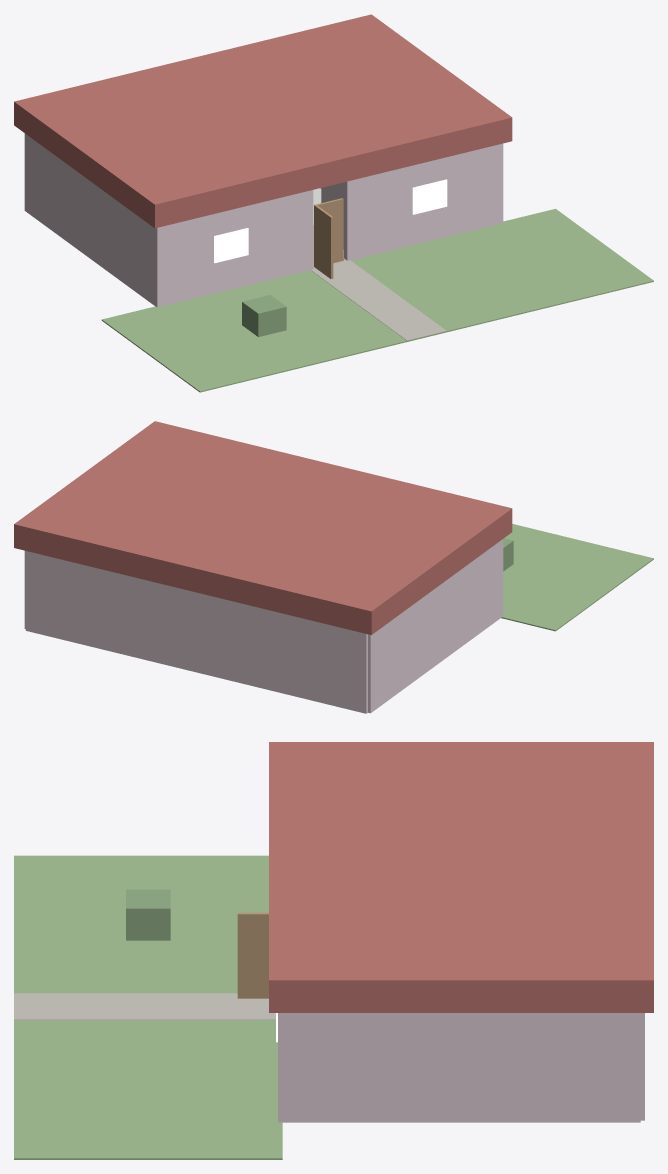
Rendered from mia.glb.
The picture shows the model from 3 angles, top to bottom: view 1: azimuth 30°, elevation 25°; view 2: azimuth 150°, elevation 25°; view 3: azimuth 270°, elevation 25°; orthographic projection. The views are drawn at different scales.
Visible parts, largest first — view 1: ext:roof, floor:garden, wall:living_room (×2), wall:kitchen, wall:bedroom, path, time:evening+night (×2), bush, when:open=true, when:open=false; view 2: ext:roof, wall:bedroom (×2), wall:kitchen, floor:garden, wall:living_room; view 3: ext:roof, floor:garden, wall:kitchen (×2), path, when:open=true, bush.
Part boxes in pixels (x1=…): ext:roof: x1=14, y1=14, x2=512, y2=228; floor:garden: x1=101, y1=208, x2=653, y2=392; wall:living_room (×2): x1=73, y1=169, x2=313, y2=307; wall:kitchen: x1=344, y1=143, x2=503, y2=260; wall:bedroom: x1=24, y1=133, x2=73, y2=246; path: x1=311, y1=259, x2=446, y2=340; time:evening+night (×2): x1=214, y1=179, x2=447, y2=263; bush: x1=242, y1=295, x2=286, y2=336; when:open=true: x1=314, y1=205, x2=333, y2=278; when:open=false: x1=314, y1=198, x2=343, y2=266; ext:roof: x1=14, y1=421, x2=512, y2=634; wall:bedroom (×2): x1=167, y1=585, x2=419, y2=713; wall:kitchen: x1=25, y1=551, x2=167, y2=665; floor:garden: x1=501, y1=524, x2=653, y2=631; wall:living_room: x1=420, y1=541, x2=499, y2=676; ext:roof: x1=269, y1=742, x2=653, y2=1012; floor:garden: x1=14, y1=855, x2=282, y2=1159; wall:kitchen (×2): x1=278, y1=1013, x2=640, y2=1122; path: x1=14, y1=993, x2=275, y2=1019; when:open=true: x1=237, y1=912, x2=268, y2=998; bush: x1=126, y1=889, x2=170, y2=940.
Bounding box in the file's own units: 16 × 3.63 × 14.3.
